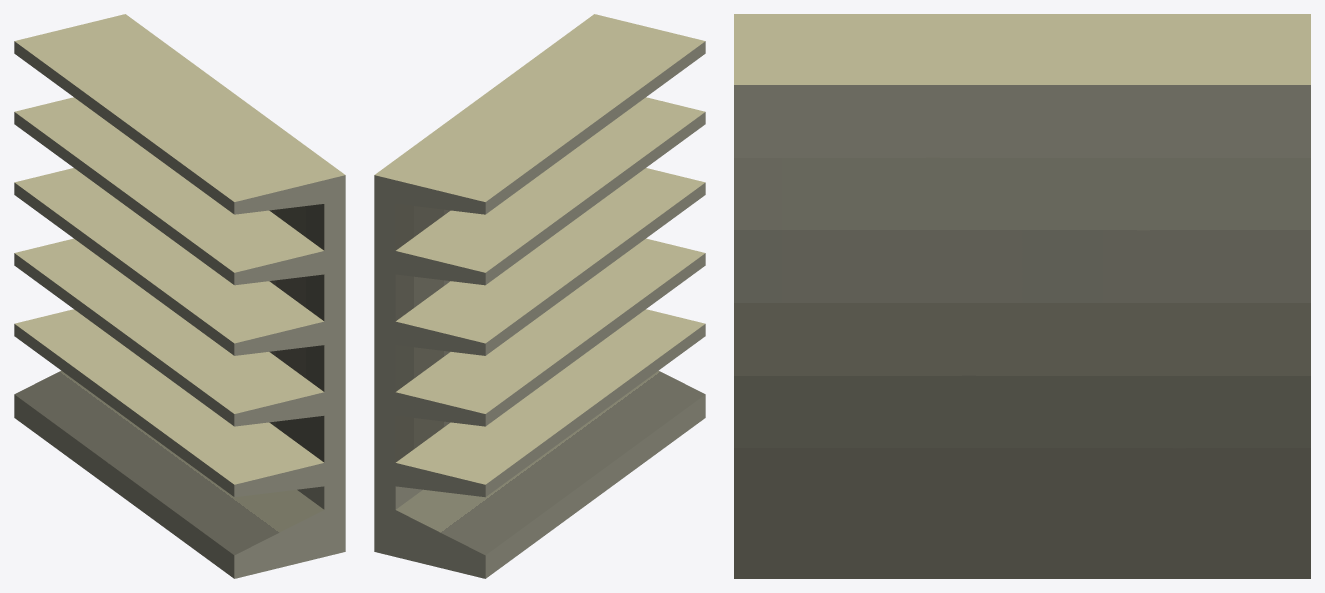
The model's file is CS_Shelf.fbx.
The picture shows the model from 3 angles, left to right: view 1: azimuth 30°, elevation 25°; view 2: azimuth 150°, elevation 25°; view 3: azimuth 270°, elevation 25°; orthographic projection. The views are drawn at different scales.
Parts seen in each view (by area): view 1: cuboid; view 2: cuboid; view 3: cuboid.
Boxes of the visible parts, x1,y1,x2,y2 form: cuboid: (14, 14, 345, 578); cuboid: (374, 14, 705, 578); cuboid: (734, 14, 1310, 578).
Size of the model in its own units: 13.12 by 42.5 by 45.
1 material, 1 textured.
